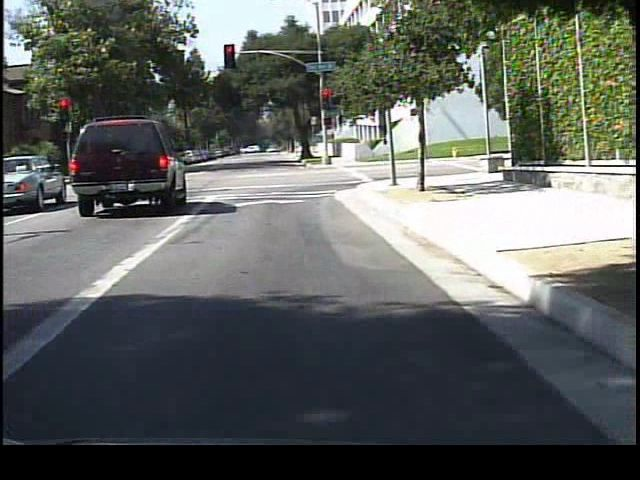person: (379, 131, 398, 167)
